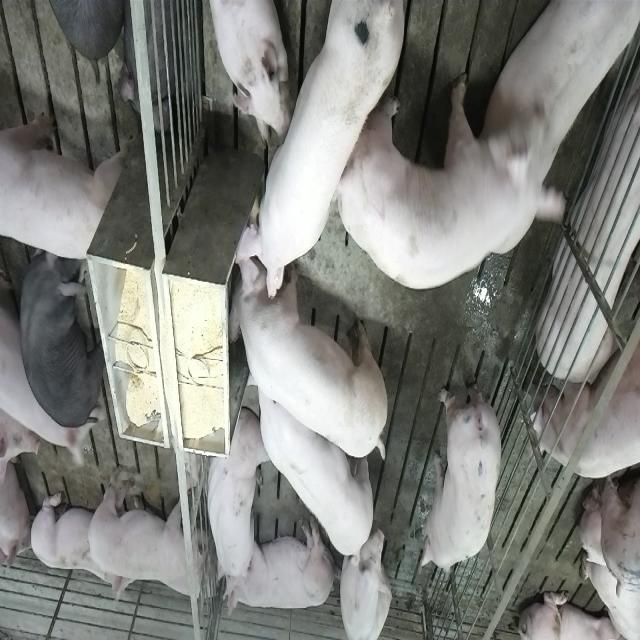Feeding: (224, 5, 402, 308), (221, 248, 385, 468)
Lateral_lying: (539, 42, 640, 394), (222, 514, 336, 620)
Sitting: (335, 524, 391, 638)
Standing: (334, 72, 570, 290), (497, 0, 640, 229), (247, 353, 378, 563), (1, 100, 127, 264), (419, 365, 503, 579), (84, 459, 216, 589), (20, 253, 106, 431), (529, 340, 640, 477)
Sternal_lying: (31, 488, 138, 612), (206, 1, 286, 142), (202, 408, 266, 584)
